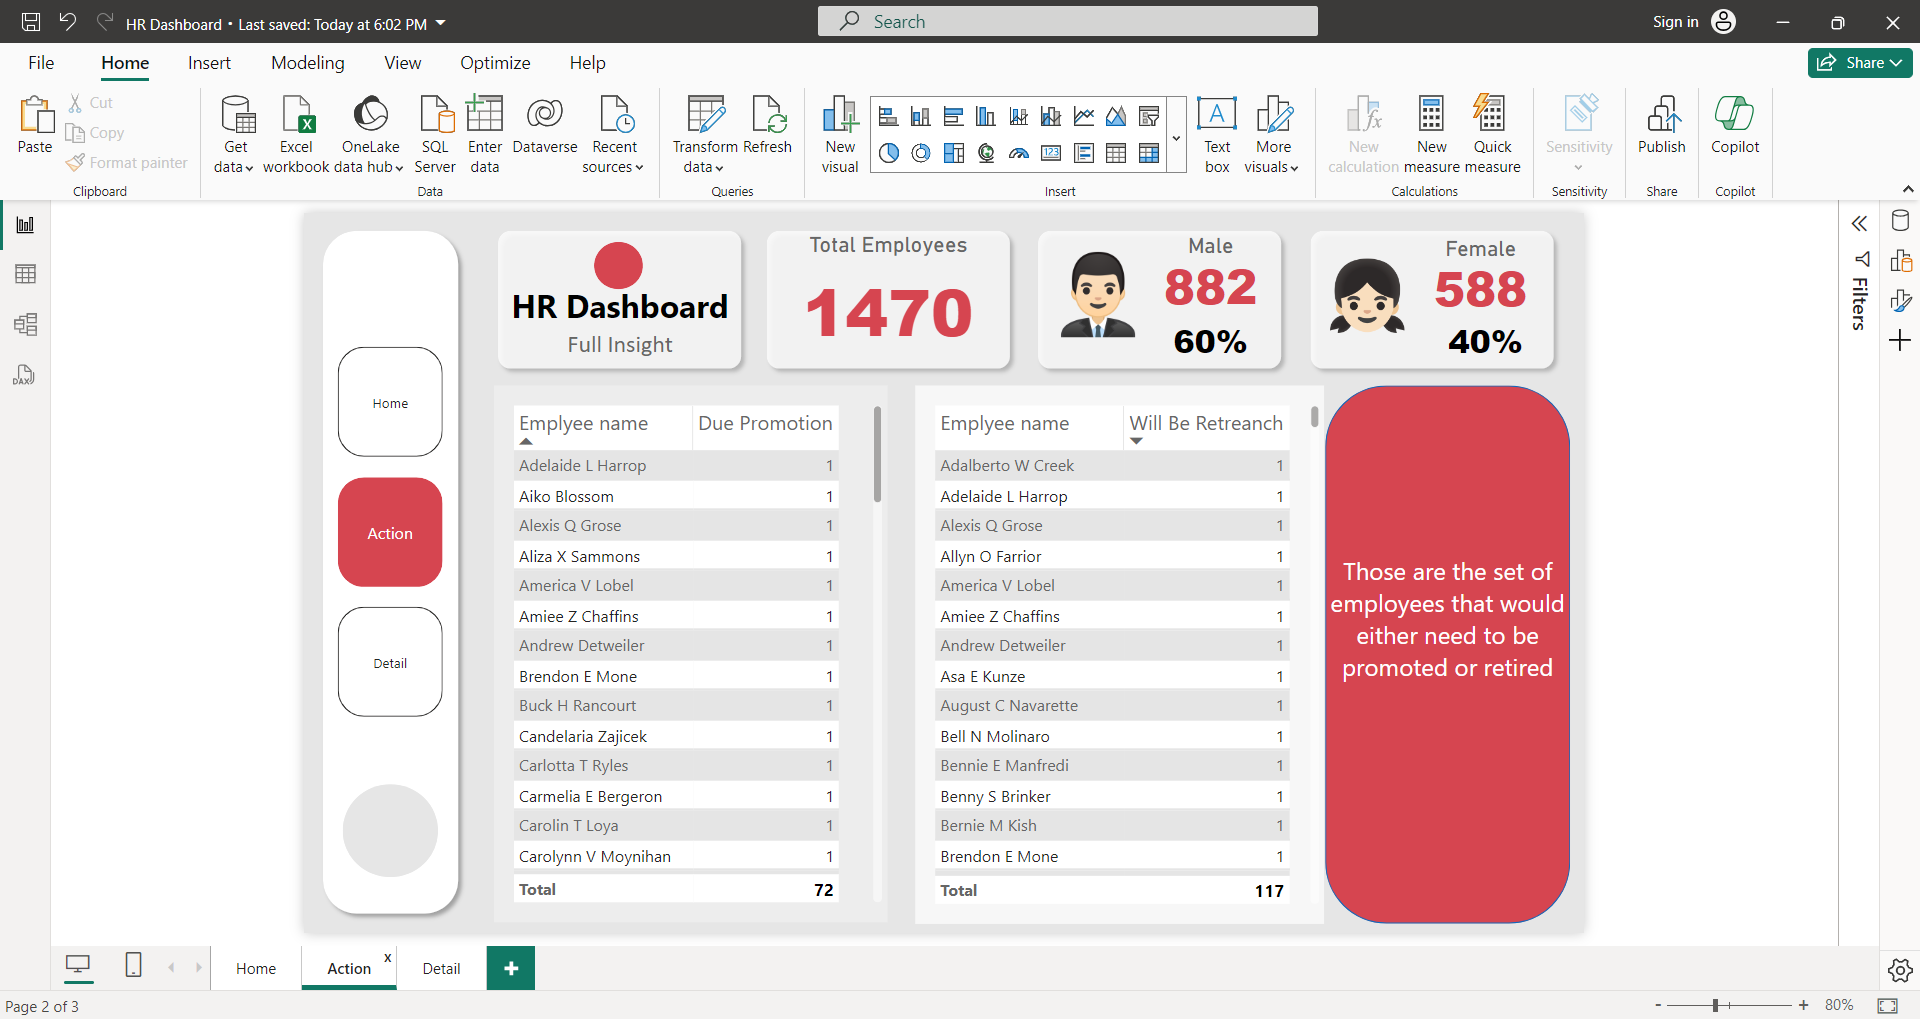

Layout of this report page (visuals, bound fields, positions):
{"tool":"powerbi","page":{"name":"Action","canvas":[1280,720],"ordinal":1},"visuals":[{"type":"shape","box":[9.7,8.4,153.2,700.9],"z":0},{"type":"shape","box":[184.7,8.7,261.1,155.8],"z":1000},{"type":"shape","box":[453.5,8.7,261.1,155.8],"z":2000},{"type":"shape","box":[725.2,8.7,261.1,155.8],"z":3000},{"type":"shape","box":[996.9,8.7,261.1,155.8],"z":4000},{"type":"textbox","box":[191.3,66.7,249.6,75],"z":5000},{"type":"textbox","box":[191.3,111.4,249.6,62],"z":6000},{"type":"shape","box":[290,28.9,49.1,47.6],"z":7000},{"type":"card","title":"Total Employees","fields":{"Values":["All Measures.Total Emp"]},"box":[462.1,19.3,243.7,133.9],"z":8000},{"type":"card","title":"Male","fields":{"Values":["All Measures.Male"]},"box":[846.2,19.9,120.9,83.9],"z":9000},{"type":"card","fields":{"Values":["All Measures.% Male"]},"box":[846.2,103.8,120.9,49.8],"z":10000},{"type":"card","title":"Female","fields":{"Values":["All Measures.Female"]},"box":[1115.6,21.9,120.9,83.9],"z":11000},{"type":"card","fields":{"Values":["All Measures.% Female"]},"box":[1120.7,103.8,120.9,49.8],"z":12000},{"type":"image","box":[1020.6,39.8,84.5,85.7],"z":13000},{"type":"image","box":[744.4,29,101.3,105],"z":14000},{"type":"pivotTable","fields":{"Rows":["HR Analytics Data.Emplyee name"],"Values":["All Measures.Due Promotion"]},"box":[190.6,172.5,393.3,536.9],"z":15000},{"type":"pivotTable","fields":{"Rows":["HR Analytics Data.Emplyee name"],"Values":["All Measures.Will Be Retreanch"]},"box":[611.7,172.5,409,538.1],"z":16000},{"type":"shape","box":[1020.6,172.5,244.9,538.1],"z":17000},{"type":"textbox","box":[1020.6,336.6,244.9,273.9],"z":18000},{"type":"shape","box":[38.6,570.6,95.3,92.9],"z":19000},{"type":"pageNavigator","box":[33.8,133.8,105,372.5],"z":19001}]}

Visuals, with their boxes on the page's 1280x720 design canvas (x1, y1, x2, y2). These are canvas units, not pixel positions in the 1920x1019 screenshot, which may show the page scaled, cropped or inside an application window:
shape: crop(10, 8, 163, 709)
shape: crop(185, 9, 446, 164)
shape: crop(454, 9, 715, 164)
shape: crop(725, 9, 986, 164)
shape: crop(997, 9, 1258, 164)
textbox: crop(191, 67, 441, 142)
textbox: crop(191, 111, 441, 173)
shape: crop(290, 29, 339, 76)
"Total Employees" card: crop(462, 19, 706, 153)
"Male" card: crop(846, 20, 967, 104)
card - All Measures.% Male: crop(846, 104, 967, 154)
"Female" card: crop(1116, 22, 1236, 106)
card - All Measures.% Female: crop(1121, 104, 1242, 154)
image: crop(1021, 40, 1105, 126)
image: crop(744, 29, 846, 134)
pivotTable - HR Analytics Data.Emplyee name x All Measures.Due Promotion: crop(191, 172, 584, 709)
pivotTable - HR Analytics Data.Emplyee name x All Measures.Will Be Retreanch: crop(612, 172, 1021, 711)
shape: crop(1021, 172, 1266, 711)
textbox: crop(1021, 337, 1266, 610)
shape: crop(39, 571, 134, 664)
pageNavigator: crop(34, 134, 139, 506)
